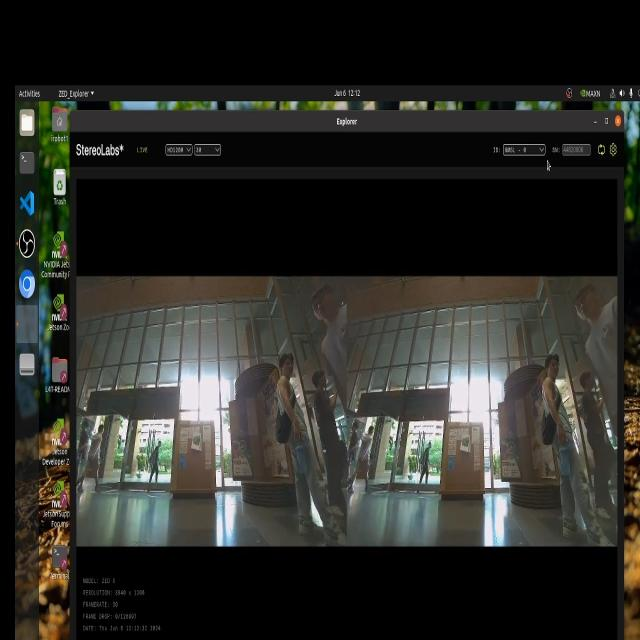green: (456, 430, 471, 454), (192, 428, 203, 452)
